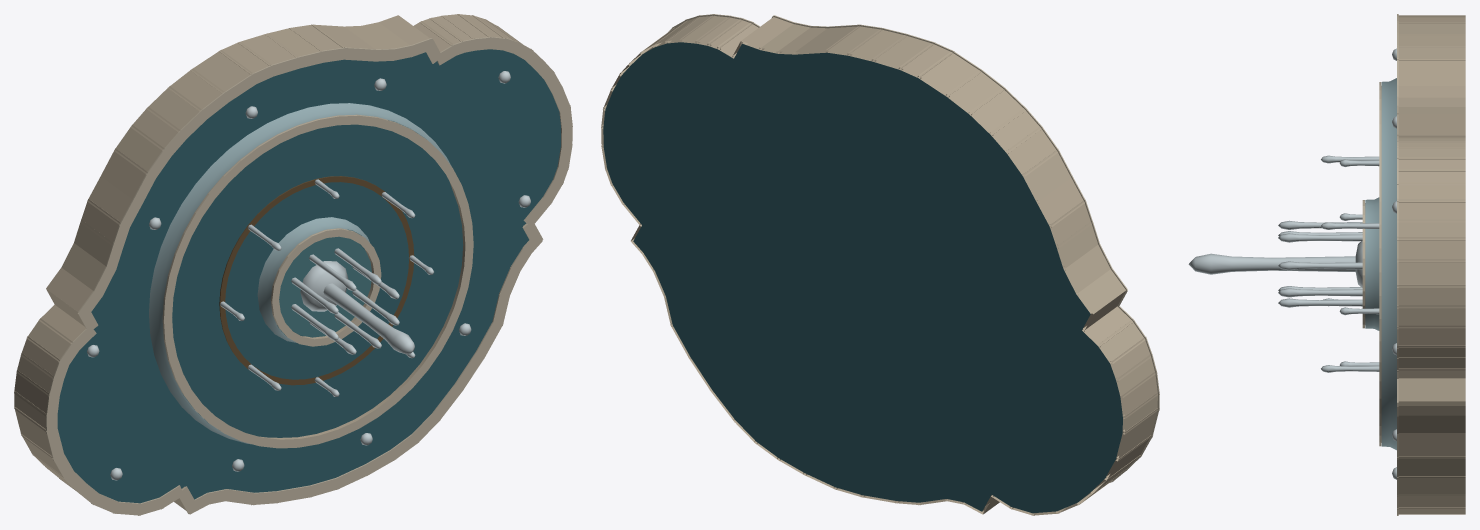
Rendered from font-magica.glb.
3 views of the same model, side by side, from view 1: azimuth 30°, elevation 25°; view 2: azimuth 150°, elevation 25°; view 3: azimuth 270°, elevation 25° (orthographic).
Visible parts, largest first — view 1: font-magica; view 2: font-magica; view 3: font-magica.
Boxes of the visible parts, x1,y1,x2,y2 form: font-magica: (14, 14, 572, 515); font-magica: (601, 14, 1159, 515); font-magica: (1188, 14, 1465, 515).
Size of the model in its own units: 60.66 by 48.79 by 27.11.
